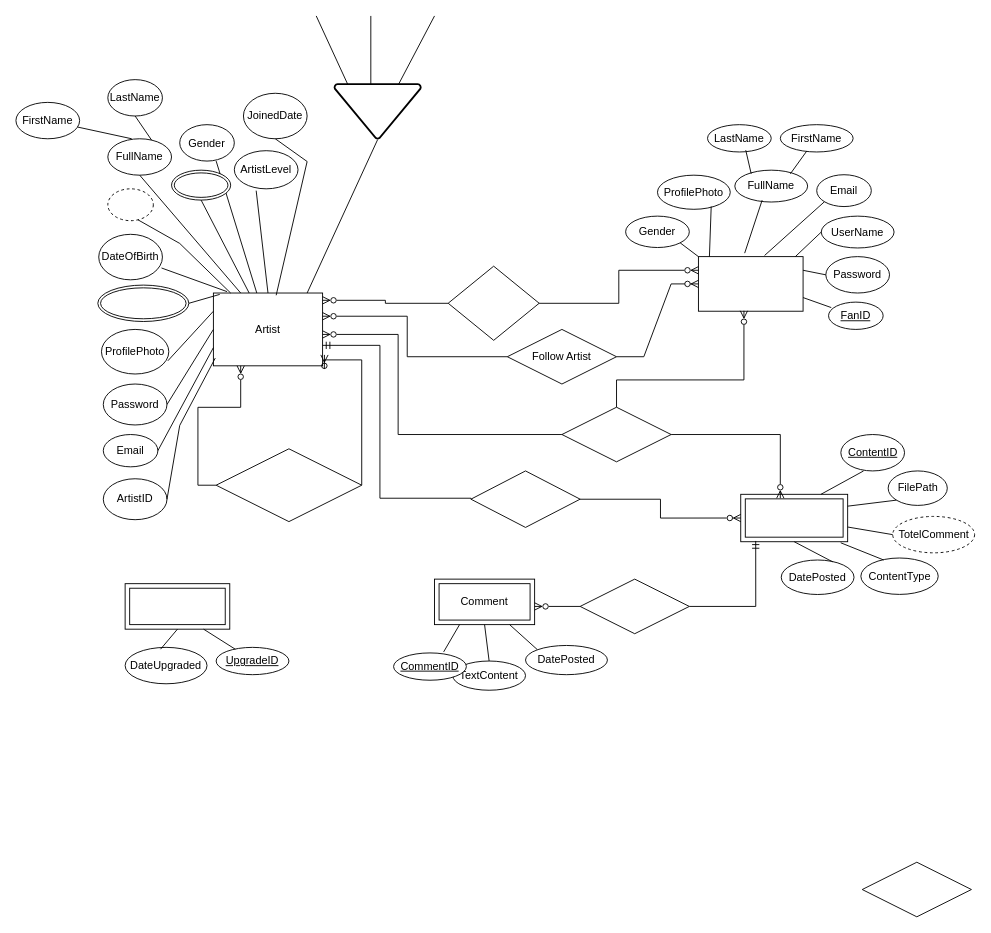
Image size: 991x933. Some labels were removed from this diagram. Here are the shapes that lost their labels. From the top down, the box of each, then its label:
(333, 83, 421, 139): IS A
(107, 188, 153, 221): Age
(171, 169, 231, 200): Awards
(97, 284, 189, 322): AreaOfInterest
(447, 265, 539, 340): Become Friends with
(698, 256, 803, 311): Fan
(561, 406, 671, 462): View Content
(215, 448, 362, 522): Become friends with Other Artist
(470, 470, 580, 527): Post Content
(740, 493, 848, 542): Content
(124, 583, 230, 629): Upgrade
(579, 578, 689, 634): Comment on content
(861, 861, 971, 917): Relationship
